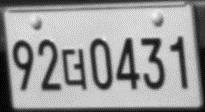0: (89, 38, 114, 90)
1: (166, 34, 196, 91)
2: (37, 39, 63, 90)
3: (140, 36, 166, 90)
4: (115, 36, 141, 89)
9: (11, 39, 36, 91)
더: (61, 48, 87, 90)
